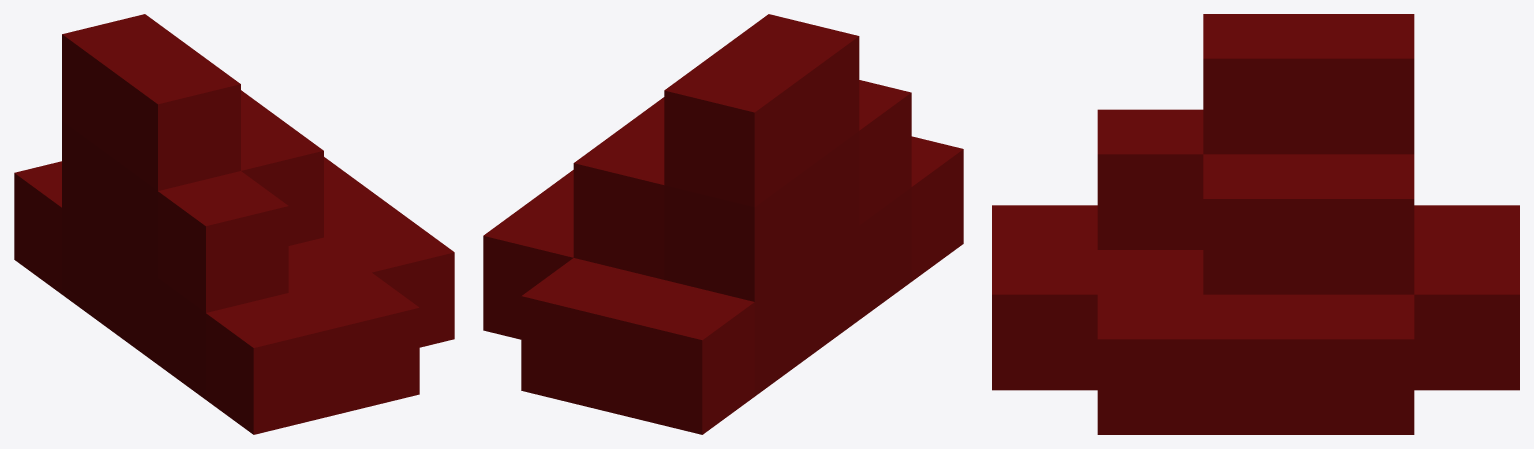
Rendered from amnyam_anger-0.obj.
The picture shows the model from 3 angles, left to right: view 1: azimuth 30°, elevation 25°; view 2: azimuth 150°, elevation 25°; view 3: azimuth 270°, elevation 25°; orthographic projection. The views are drawn at different scales.
Size of the model in its own units: 0.3 by 0.3 by 0.5.
1 material, 1 textured.
